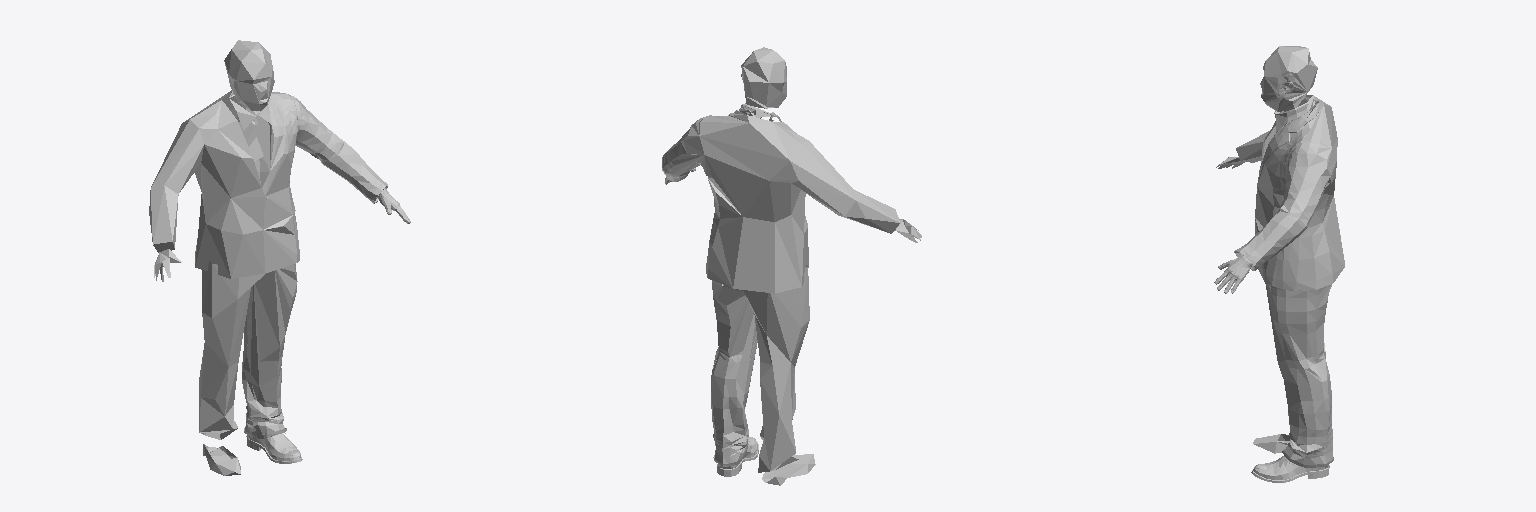
The model's file is result2.obj.
3 views of the same model, side by side, from view 1: azimuth 30°, elevation 25°; view 2: azimuth 150°, elevation 25°; view 3: azimuth 270°, elevation 25° (orthographic).
Bounding box in the file's own units: 10.36 × 16.19 × 4.64.